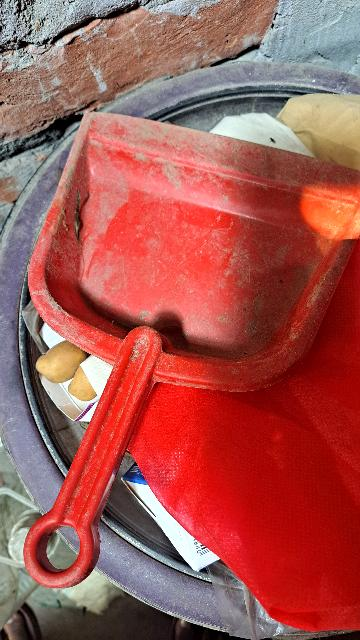hardplastic: (0, 110, 329, 425), (8, 359, 167, 611)
